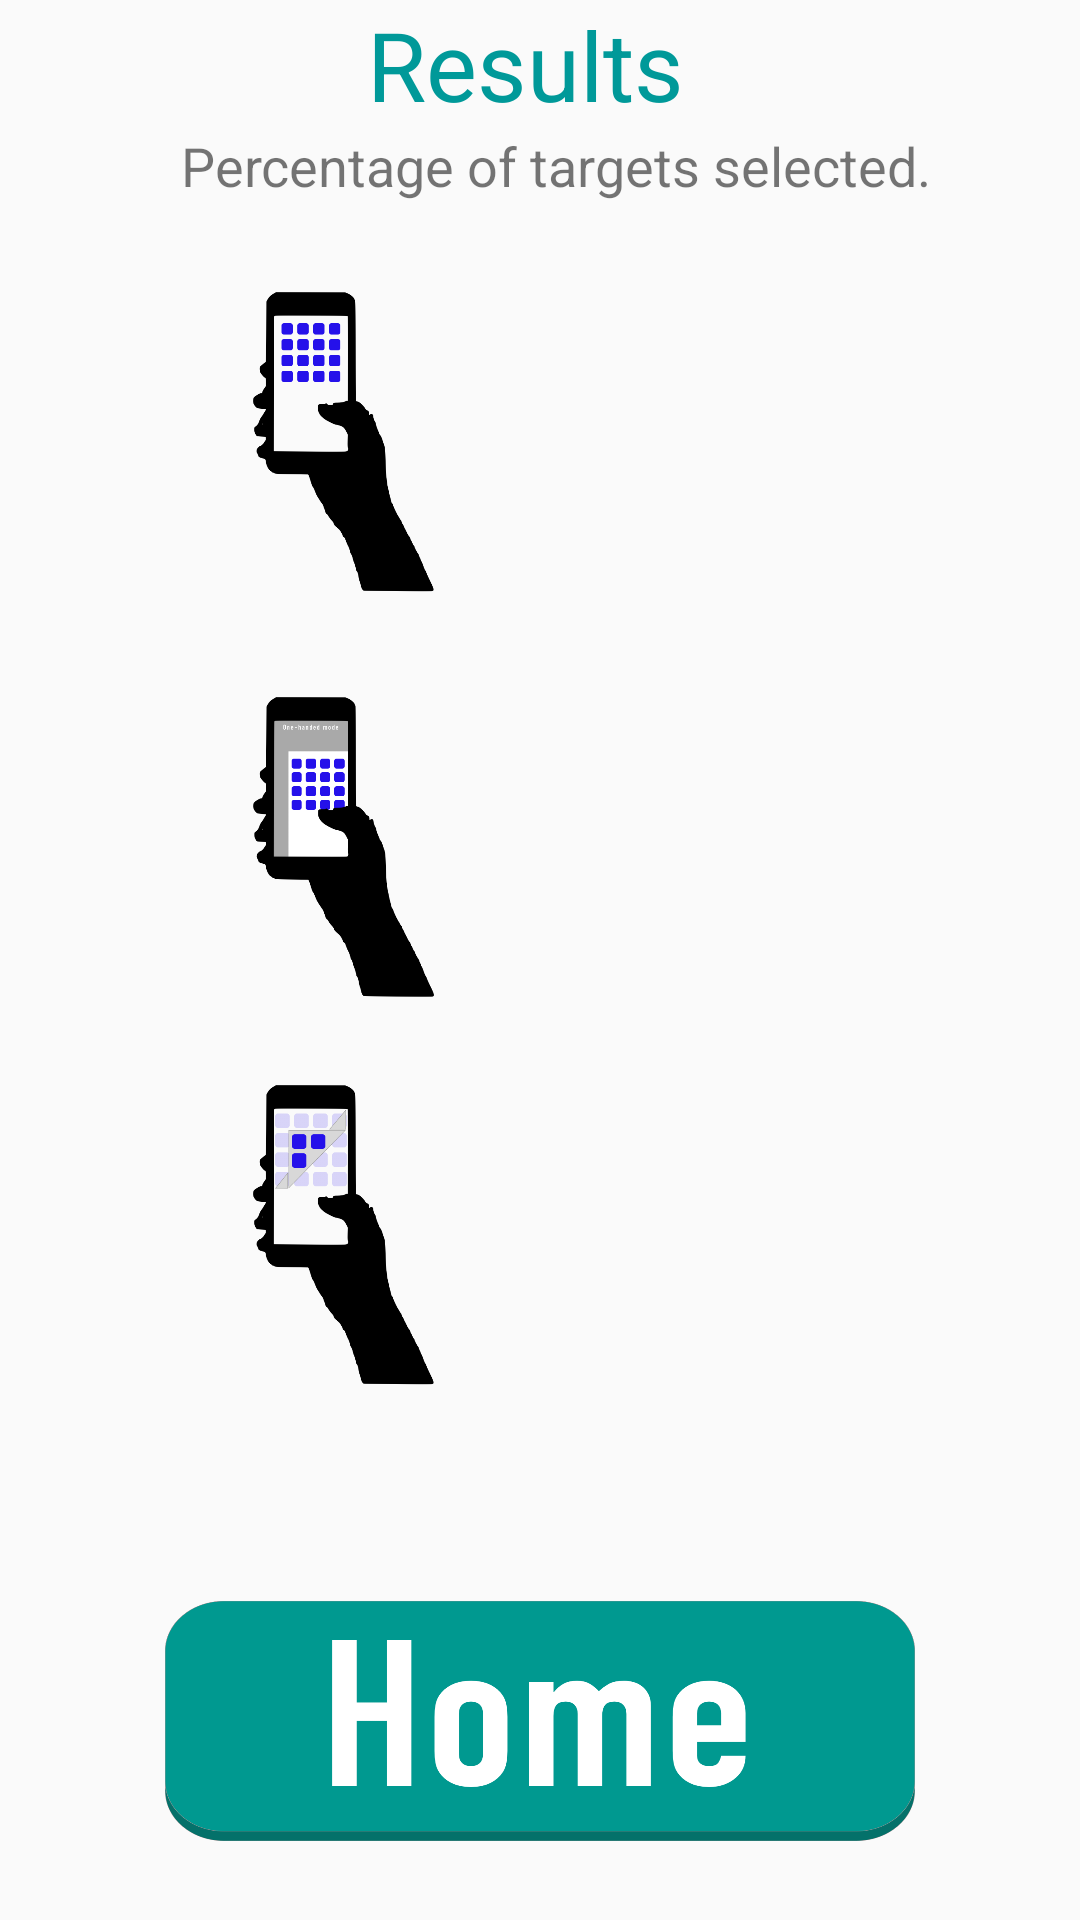

Named icons in this screenshot (1080px×1920px) and their centers, [x,y]:
direct touch: [343,442]
one handed mode: [343,847]
palm touch: [343,1235]
